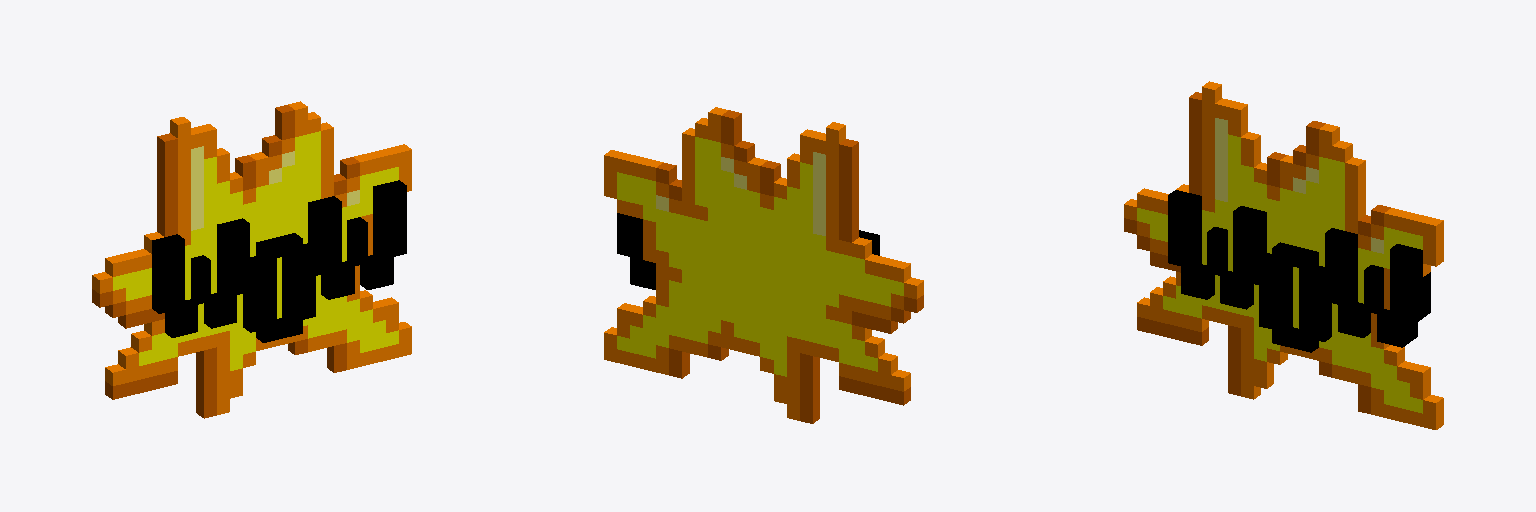
3 renders of one model, left to right at view 1: azimuth 30°, elevation 25°; view 2: azimuth 150°, elevation 25°; view 3: azimuth 330°, elevation 25°, orthographic.
Visible parts, largest first — view 1: object 1; view 2: object 1; view 3: object 1.
Boxes of the visible parts, <box> form: object 1: <box>92,101,411,418</box>; object 1: <box>604,107,923,423</box>; object 1: <box>1124,81,1443,429</box>.
Size of the model in its own units: 2.4 by 2.2 by 0.2.
1 materials, 1 textured.